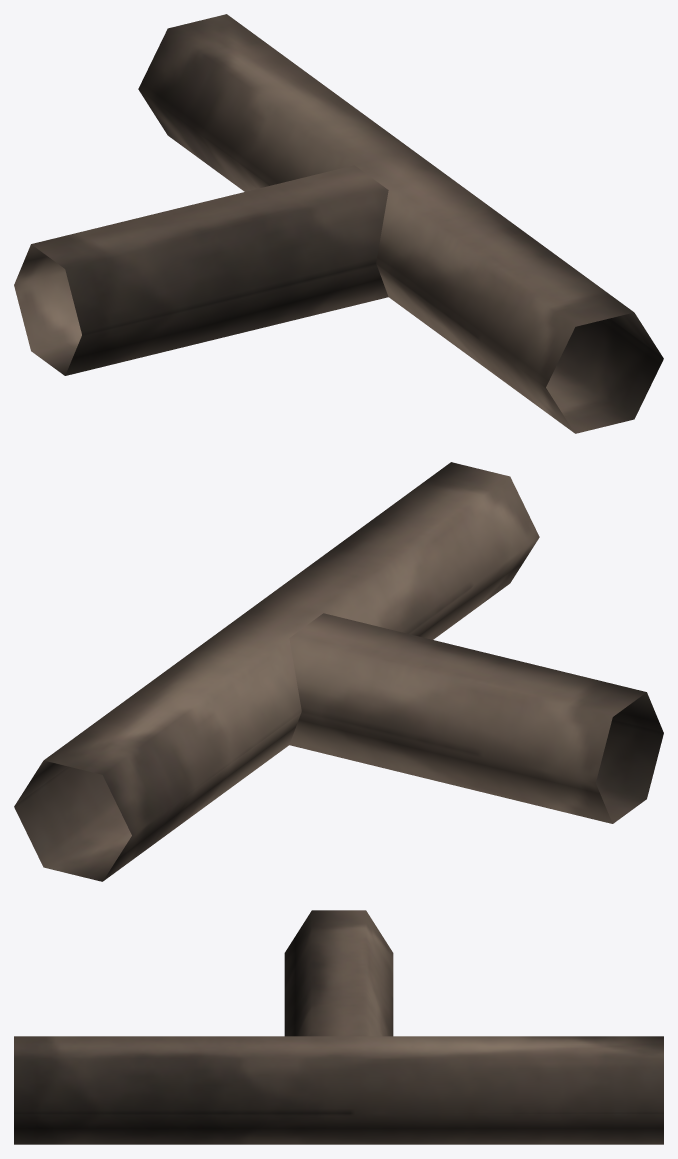
Rendered from PIPE_T.fbx.
3 views of the same model, one above another, from view 1: azimuth 30°, elevation 25°; view 2: azimuth 150°, elevation 25°; view 3: azimuth 270°, elevation 25° (orthographic). The views are drawn at different scales.
Parts seen in each view (by area): view 1: polySurface10; view 2: polySurface10; view 3: polySurface10.
Part boxes in pixels (x1,y1,x2,y2): polySurface10: [14, 14, 663, 433]; polySurface10: [14, 462, 663, 881]; polySurface10: [14, 910, 663, 1144].
Size of the model in its own units: 5.51 by 1.37 by 9.44.
